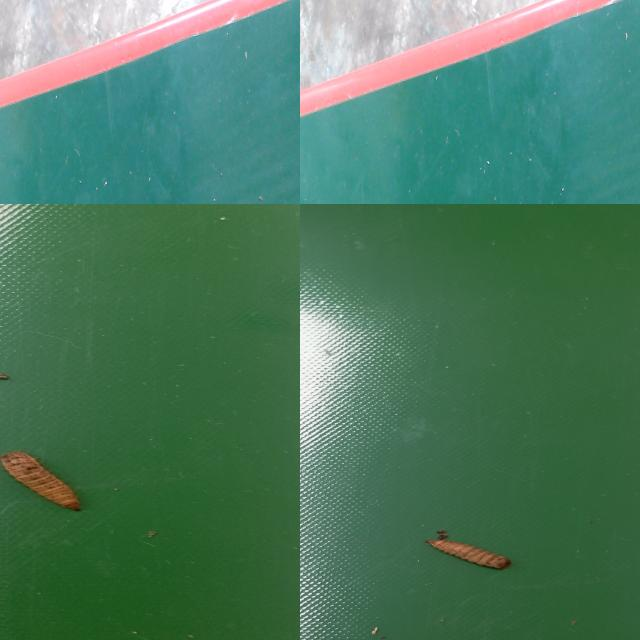Maggot: (0, 452, 83, 513), (427, 531, 511, 573)
